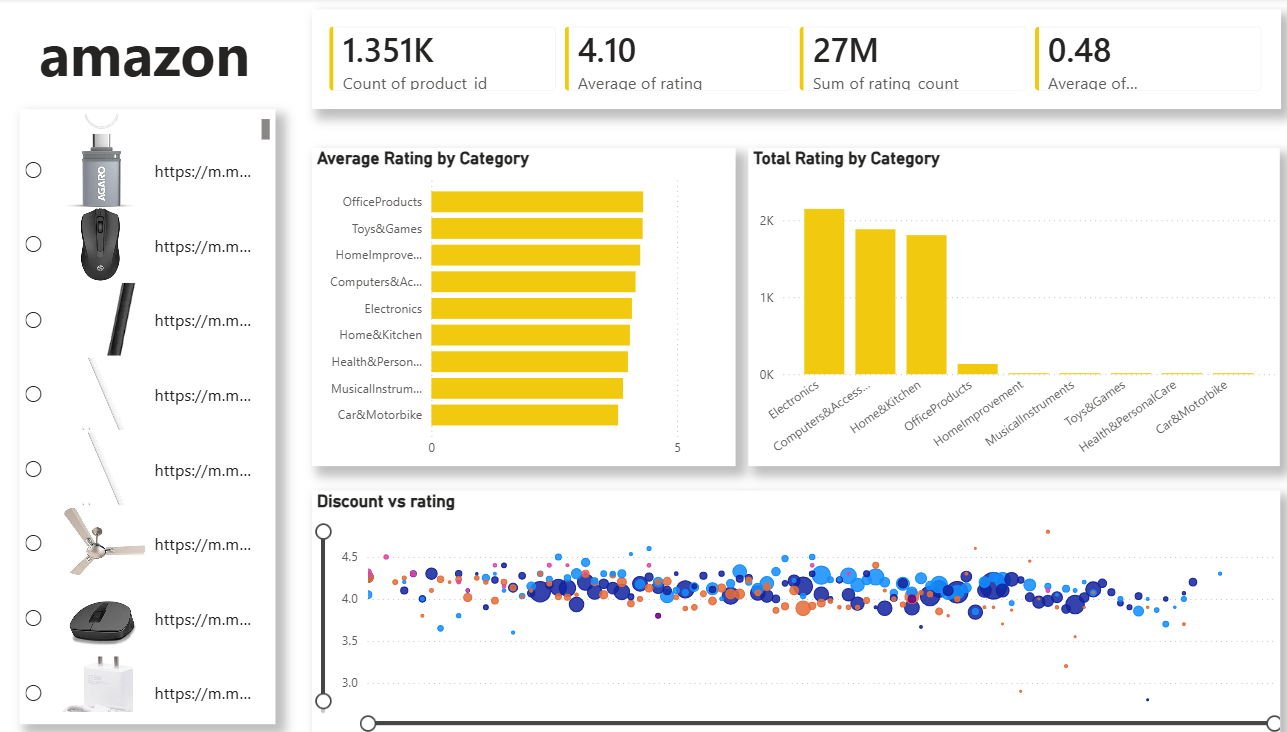

This screenshot's page, from the dashboard's own definition file:
{"tool":"powerbi","page":{"name":"Page 1","canvas":[1280,720],"ordinal":0},"visuals":[{"type":"cardVisual","fields":{"Data":["Count(amazon.product_id)","Avg(amazon.rating)","Sum(amazon.rating_count)","Avg(amazon.discount_percentage)"]},"box":[308.2,11,947.7,97.8],"z":0},{"type":"barChart","title":"Average Rating by Category","fields":{"Category":["amazon.category.1"],"Y":["Avg(amazon.rating)"]},"box":[308.7,146.8,414.4,311.5],"z":1000},{"type":"columnChart","title":"Total Rating by Category","fields":{"Category":["amazon.category.1"],"Y":["Sum(amazon.rating)"]},"box":[735.5,146.8,520.1,311.5],"z":2000},{"type":"scatterChart","title":"Discount vs rating","fields":{"X":["amazon.Discount%"],"Y":["amazon.rating"],"Series":["amazon.category.1"],"Size":["Sum(amazon.rating_count)"]},"box":[308.7,481.6,946.8,238.8],"z":3000},{"type":"listSlicer","fields":{"Values":["amazon.img_link"]},"box":[22,108.8,250.7,601.6],"z":4000},{"type":"textbox","box":[20.8,11,251.9,85.6],"z":5000}]}

Visuals, with their boxes in screenshot pixels (x1, y1, x2, y2), scaled from the page's 1280x720 canvas onto the 1287x732 screenshot:
cardVisual - Count(amazon.product_id) x Avg(amazon.rating): pyautogui.locateOnScreen(310, 11, 1263, 111)
"Average Rating by Category" barChart: pyautogui.locateOnScreen(310, 149, 727, 466)
"Total Rating by Category" columnChart: pyautogui.locateOnScreen(740, 149, 1262, 466)
"Discount vs rating" scatterChart: pyautogui.locateOnScreen(310, 490, 1262, 731)
listSlicer - amazon.img_link: pyautogui.locateOnScreen(22, 111, 274, 722)
textbox: pyautogui.locateOnScreen(21, 11, 274, 98)
